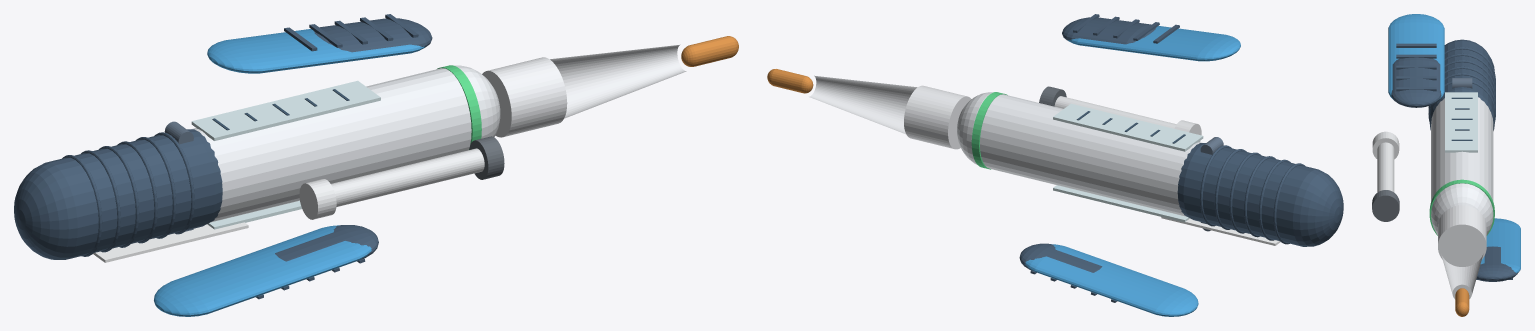
File: dranmar_skin_adhesive_mechanism_exploded.glb
3 renders of one model, left to right at view 1: azimuth 30°, elevation 25°; view 2: azimuth 150°, elevation 25°; view 3: azimuth 270°, elevation 25°, orthographic. The views are drawn at different scales.
Parts seen in each view (by area): view 1: Body_BodyShell, Body_RearGrip, RightPaddle_PaddleBody, Body_Nozzle, LeftPaddle_PaddleBody, Body_NozzleCollar, Body_ReservoirWindowLeft, MeteringPiston_MeteringRod, LeftPaddle_ThumbPad, Body_LabelPanel, RightPaddle_ThumbPad, MeteringPiston_RearFollower (+8 smaller); view 2: Body_BodyShell, Body_RearGrip, RightPaddle_PaddleBody, Body_Nozzle, LeftPaddle_PaddleBody, Body_NozzleCollar, Body_ReservoirWindowLeft, LeftPaddle_ThumbPad, RightPaddle_ThumbPad, Body_ReservoirWindowRight, Body_ApplicatorWick, MeteringPiston_MeteringRod (+2 smaller); view 3: Body_BodyShell, Body_NozzleCollar, LeftPaddle_PaddleBody, Body_RearGrip, LeftPaddle_ThumbPad, Body_ReservoirWindowLeft, RightPaddle_PaddleBody, RightPaddle_ThumbPad, Body_Nozzle, MeteringPiston_MeteringRod, MeteringPiston_PistonHead, Body_StateIndicator (+14 smaller).
Boxes of the visible parts, x1,y1,x2,y2 form: Body_BodyShell: [191, 65, 500, 222]; Body_RearGrip: [14, 129, 222, 259]; RightPaddle_PaddleBody: [154, 225, 371, 316]; Body_Nozzle: [550, 44, 686, 118]; LeftPaddle_PaddleBody: [207, 29, 424, 73]; Body_NozzleCollar: [482, 57, 567, 137]; Body_ReservoirWindowLeft: [191, 80, 380, 140]; MeteringPiston_MeteringRod: [331, 148, 484, 206]; LeftPaddle_ThumbPad: [314, 18, 432, 52]; Body_LabelPanel: [93, 222, 248, 262]; RightPaddle_ThumbPad: [275, 225, 378, 261]; MeteringPiston_RearFollower: [299, 179, 336, 219]; Body_BodyShell: [957, 92, 1202, 216]; Body_RearGrip: [1177, 143, 1343, 246]; RightPaddle_PaddleBody: [1025, 244, 1198, 316]; Body_Nozzle: [809, 75, 917, 134]; LeftPaddle_PaddleBody: [1068, 26, 1240, 61]; Body_NozzleCollar: [904, 85, 971, 149]; Body_ReservoirWindowLeft: [1053, 103, 1203, 151]; LeftPaddle_ThumbPad: [1062, 17, 1156, 44]; RightPaddle_ThumbPad: [1019, 243, 1102, 272]; Body_ReservoirWindowRight: [1053, 185, 1189, 222]; Body_ApplicatorWick: [767, 69, 813, 93]; MeteringPiston_MeteringRod: [1054, 96, 1176, 128]; Body_BodyShell: [1431, 97, 1493, 234]; Body_NozzleCollar: [1438, 205, 1486, 266]; LeftPaddle_PaddleBody: [1388, 14, 1444, 99]; Body_RearGrip: [1429, 39, 1494, 130]; LeftPaddle_ThumbPad: [1391, 57, 1441, 107]; Body_ReservoirWindowLeft: [1445, 92, 1477, 152]; RightPaddle_PaddleBody: [1480, 218, 1520, 273]; RightPaddle_ThumbPad: [1476, 246, 1517, 281]; Body_Nozzle: [1441, 254, 1483, 299]; MeteringPiston_MeteringRod: [1377, 142, 1394, 192]; MeteringPiston_PistonHead: [1372, 190, 1399, 221]; Body_StateIndicator: [1429, 179, 1494, 235].
Bounding box in the file's own units: 0.1553 × 0.0615 × 0.039.
